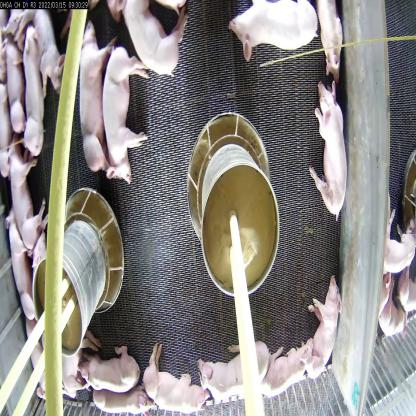Pig: (102, 42, 152, 187), (224, 0, 320, 61), (308, 78, 348, 220), (119, 0, 189, 79), (76, 23, 113, 172), (142, 342, 210, 416), (5, 135, 50, 246), (197, 342, 270, 405), (5, 204, 40, 328), (261, 336, 320, 400), (22, 22, 48, 166), (74, 344, 144, 397), (308, 272, 342, 375), (21, 324, 60, 404), (378, 200, 416, 278), (35, 4, 67, 96), (314, 0, 346, 86), (4, 36, 26, 141), (28, 231, 53, 322), (91, 383, 157, 415), (377, 275, 407, 339)
